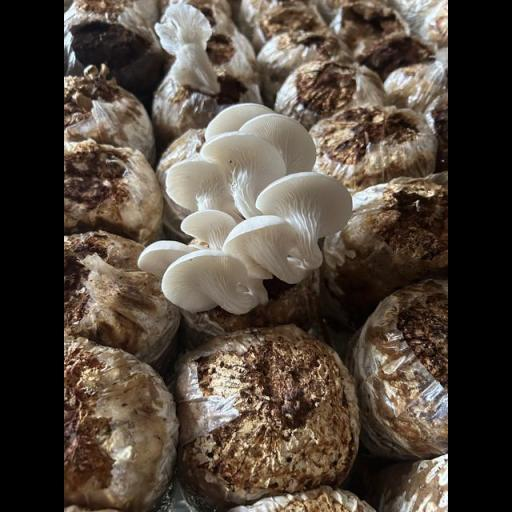White Oyster Mushroom: (130, 95, 372, 339)
